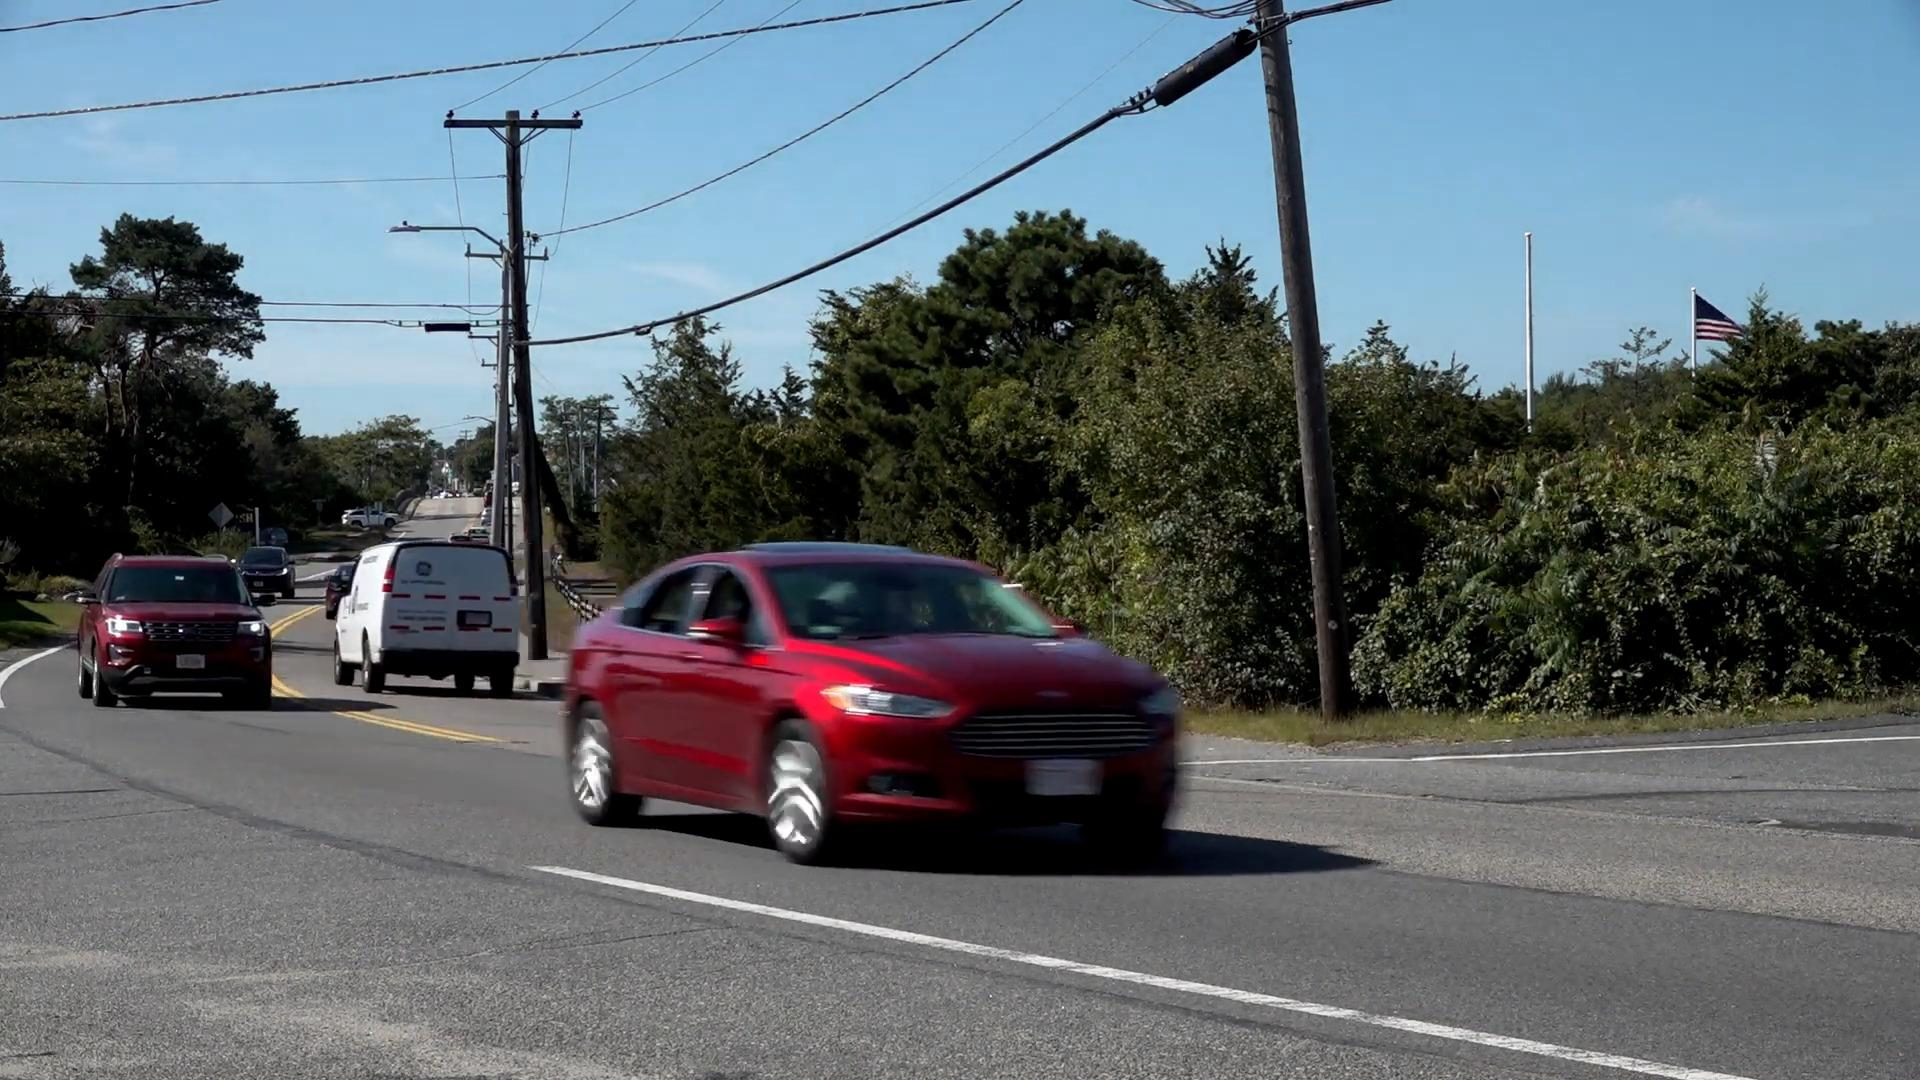minivan: (332, 549, 516, 692)
sedans: (563, 547, 1185, 869)
suv: (86, 553, 276, 709)
